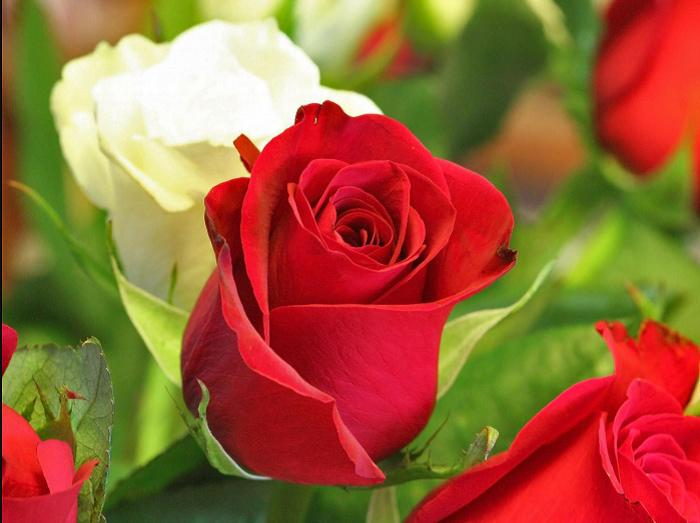rose: (178, 99, 517, 487), (402, 316, 698, 521)
